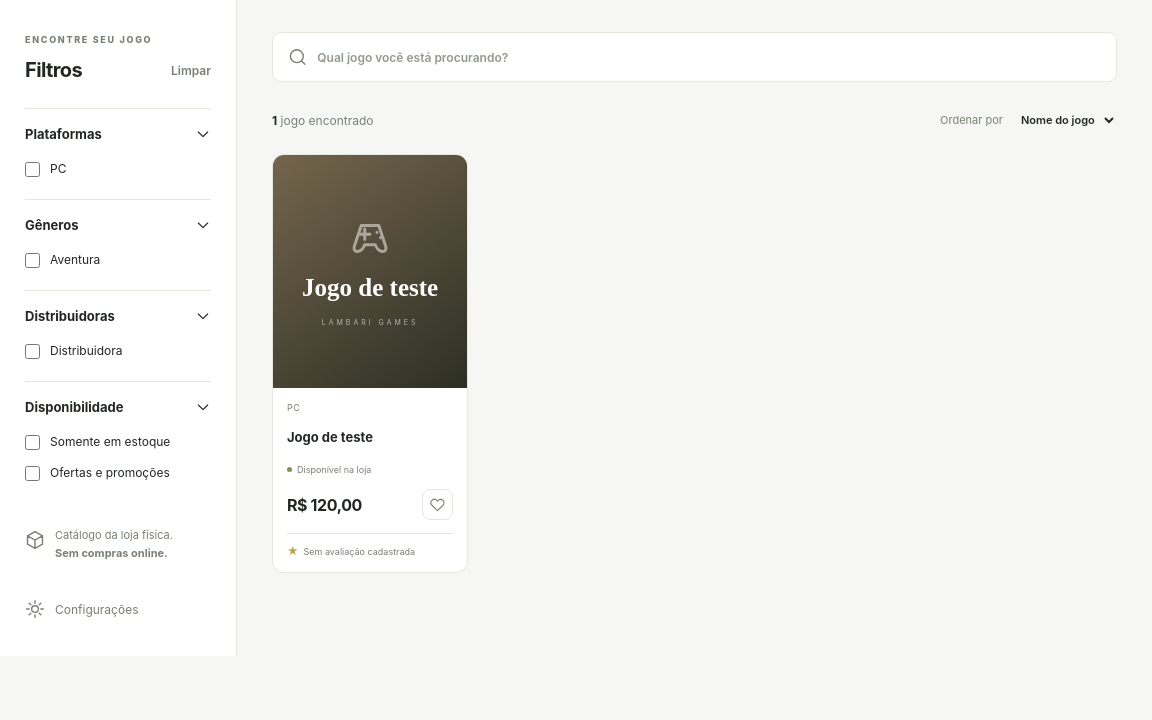
Scenario: Formulários e fluxos do frontend › consulta pública, detalhe e seleção de filtros pelo nome
Expected: the button with aria-label "Ver detalhes de Jogo de teste" is shown, left=273, top=155, right=467, bottom=388
Expected: the text "R$ 120,00" is shown, left=287, top=495, right=362, bottom=515
Click the checkbox labelled "PC".
click(32, 169)  # box left=25, top=162, right=40, bottom=176
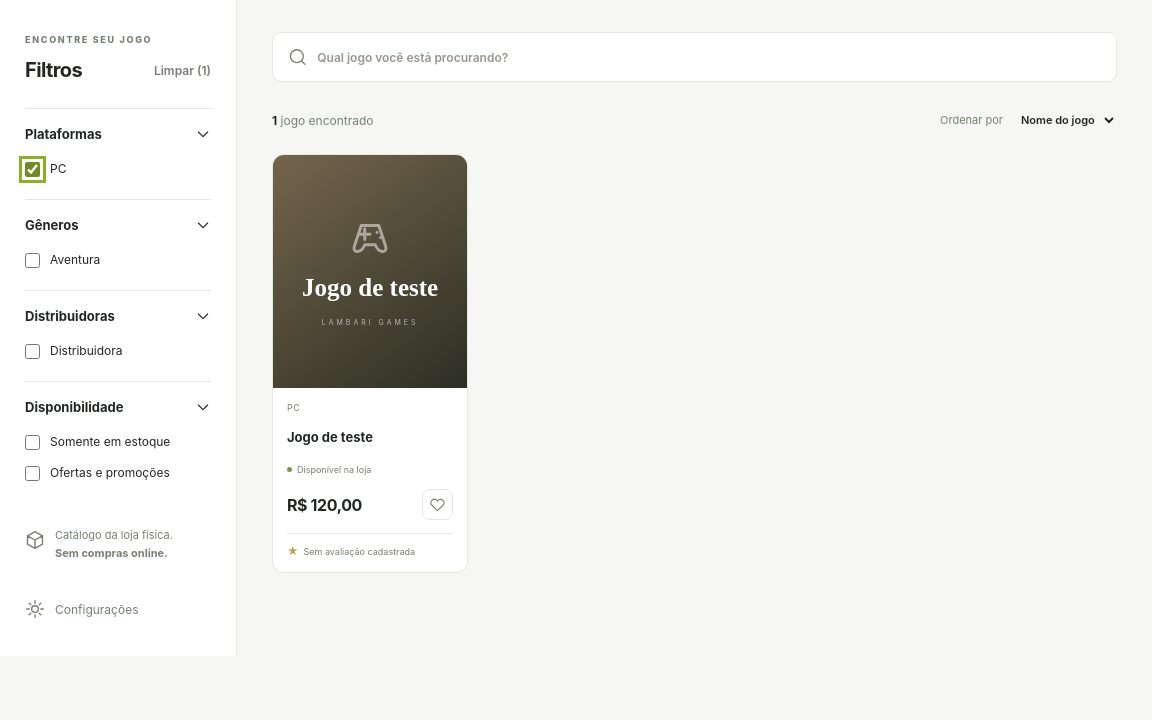
Click the button with aria-label "Ver detalhes de Jogo de teste".
click(370, 272)  # box left=273, top=155, right=467, bottom=388
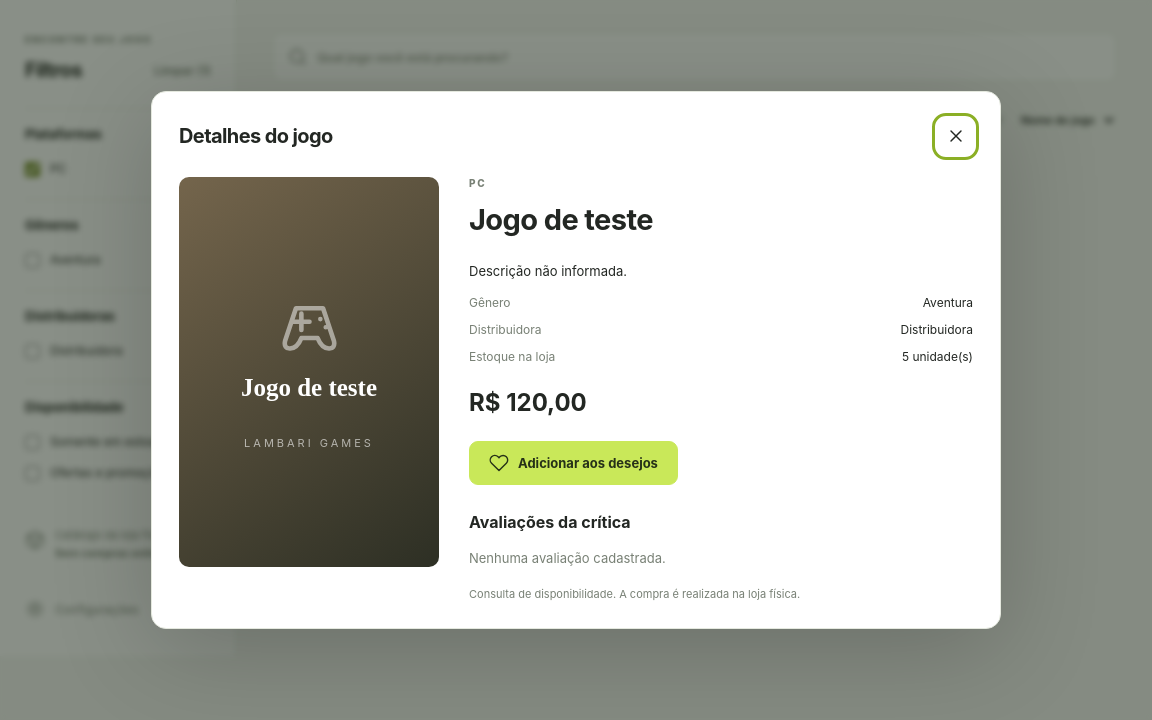
Result: the text "Estoque na loja" is shown at left=469, top=349, right=555, bottom=364
Result: the text "5 unidade(s)" is shown at left=902, top=349, right=973, bottom=364
